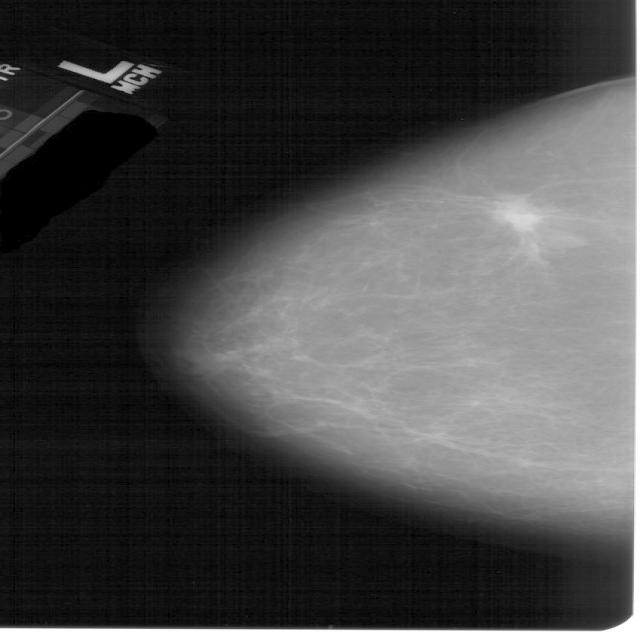tumour: (490, 198, 549, 232)
